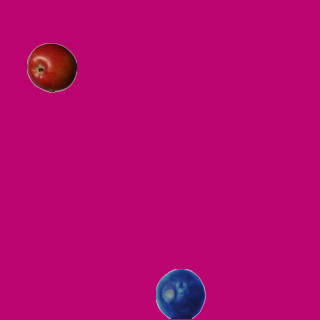Apple Braeburn: (26, 42, 76, 92)
Huckleberry: (155, 268, 205, 318)
